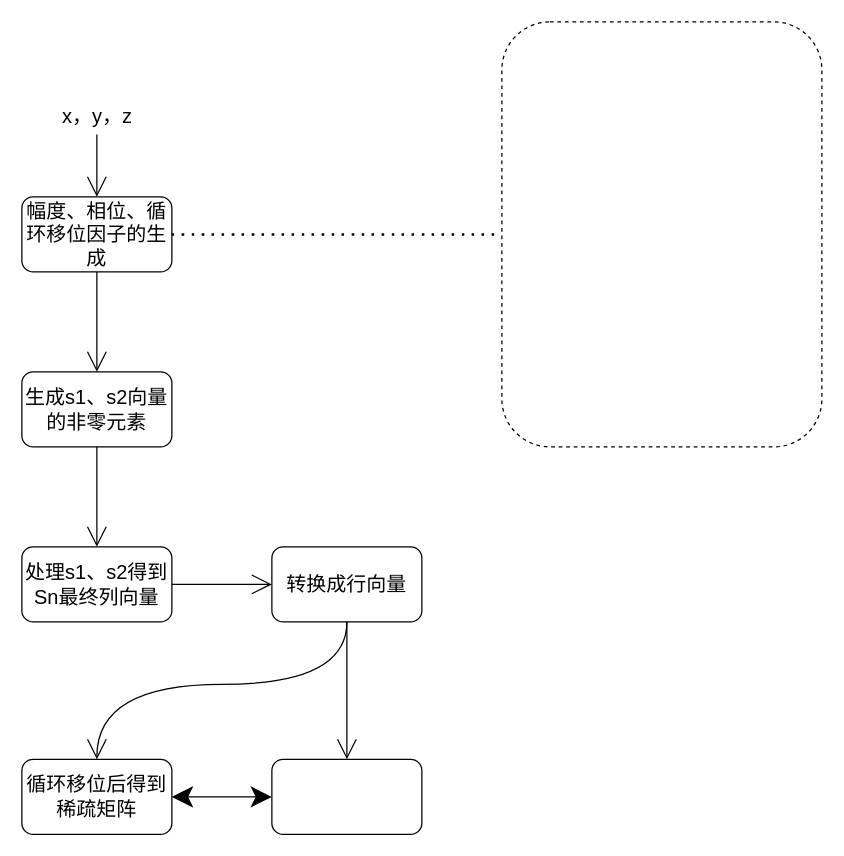
Some shapes in this 844 by 856 pixel diagram are drawn without their labels. The box of each missing label's shape, as (x1, y1, x2, y2) in pixels:
1. xyz: (501, 21, 822, 447)
据矩阵方式，按csc格式存储非零元素: (271, 758, 422, 834)
